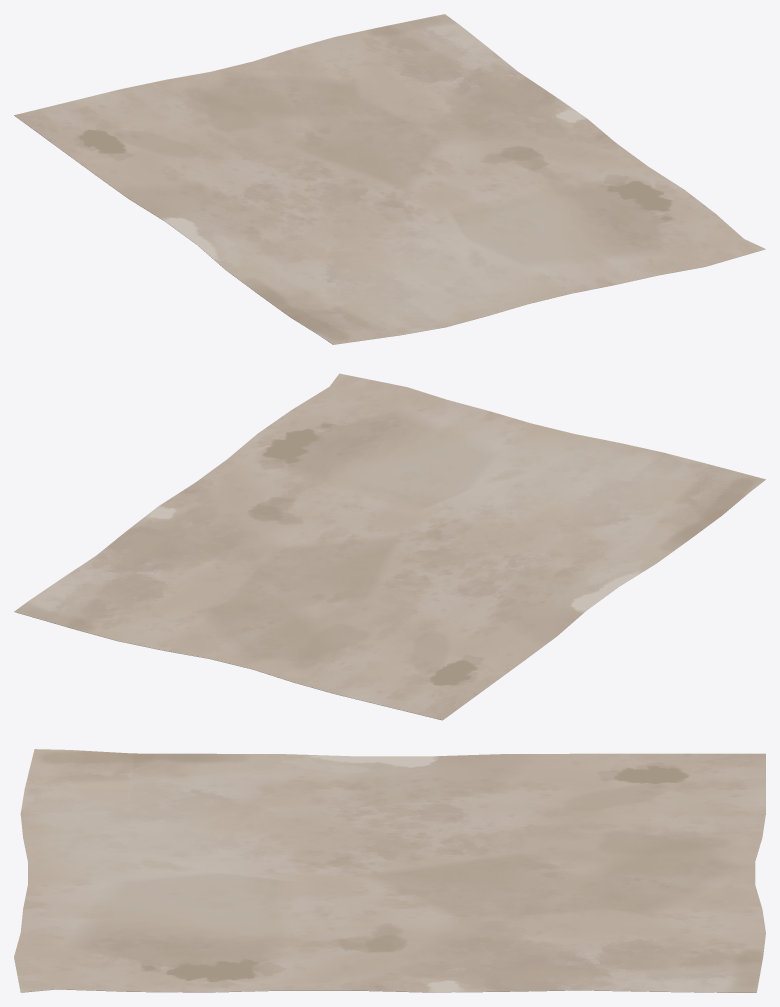
File: paper.glb
3 views of the same model, one above another, from view 1: azimuth 30°, elevation 25°; view 2: azimuth 150°, elevation 25°; view 3: azimuth 270°, elevation 25° (orthographic). The views are drawn at different scales.
Visible parts, largest first — view 1: HD2L_MOD_Paper; view 2: HD2L_MOD_Paper; view 3: HD2L_MOD_Paper.
Part boxes in pixels (x1,y1,x2,y2): HD2L_MOD_Paper: [14, 14, 765, 344]; HD2L_MOD_Paper: [14, 373, 765, 720]; HD2L_MOD_Paper: [14, 749, 765, 992].
Bounding box in the file's own units: 0.21 × 0.00205 × 0.2795.
Materials: 1 (1 with a texture image).
